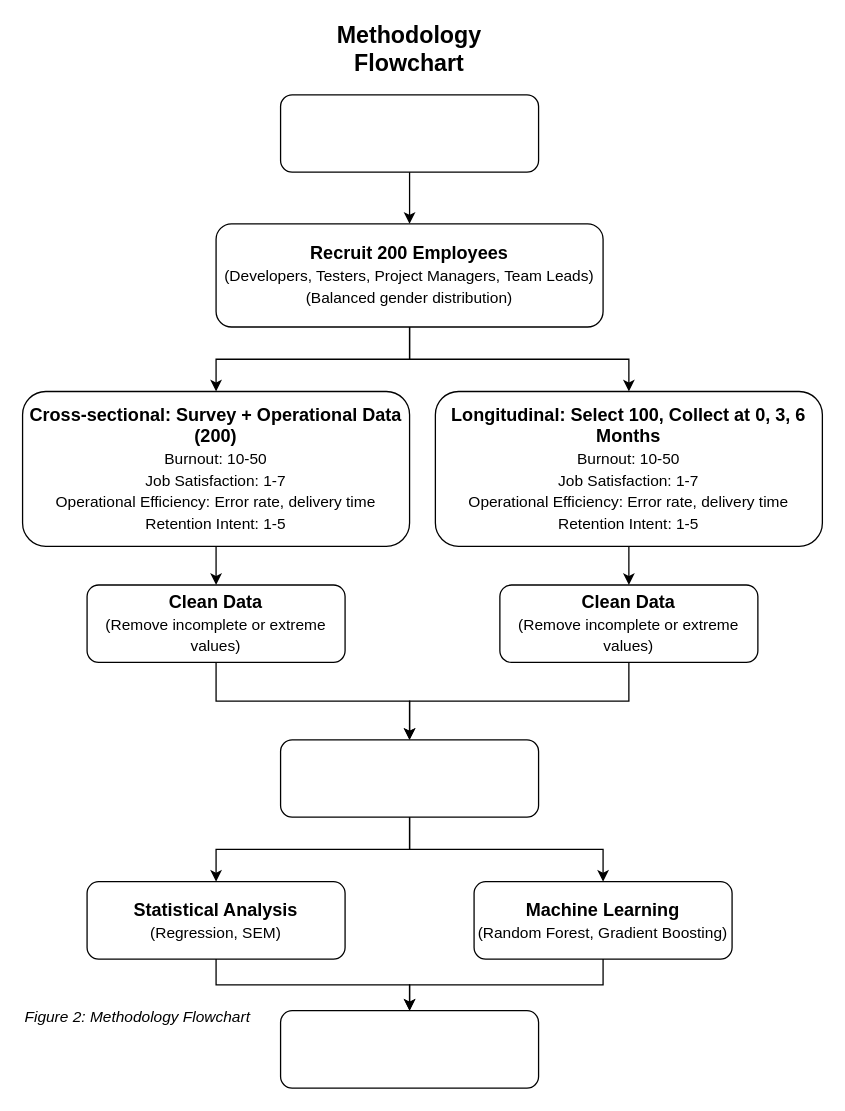
Some shapes in this 845 by 1111 pixel diagram are drawn without their labels. The centre of each missing label's shape, as x and y in pixels:
"Combine into Dataset" belongs at point 409,778.
"Combine Results" belongs at point 409,1048.
"Select 5 IT Firms" belongs at point 409,133.
